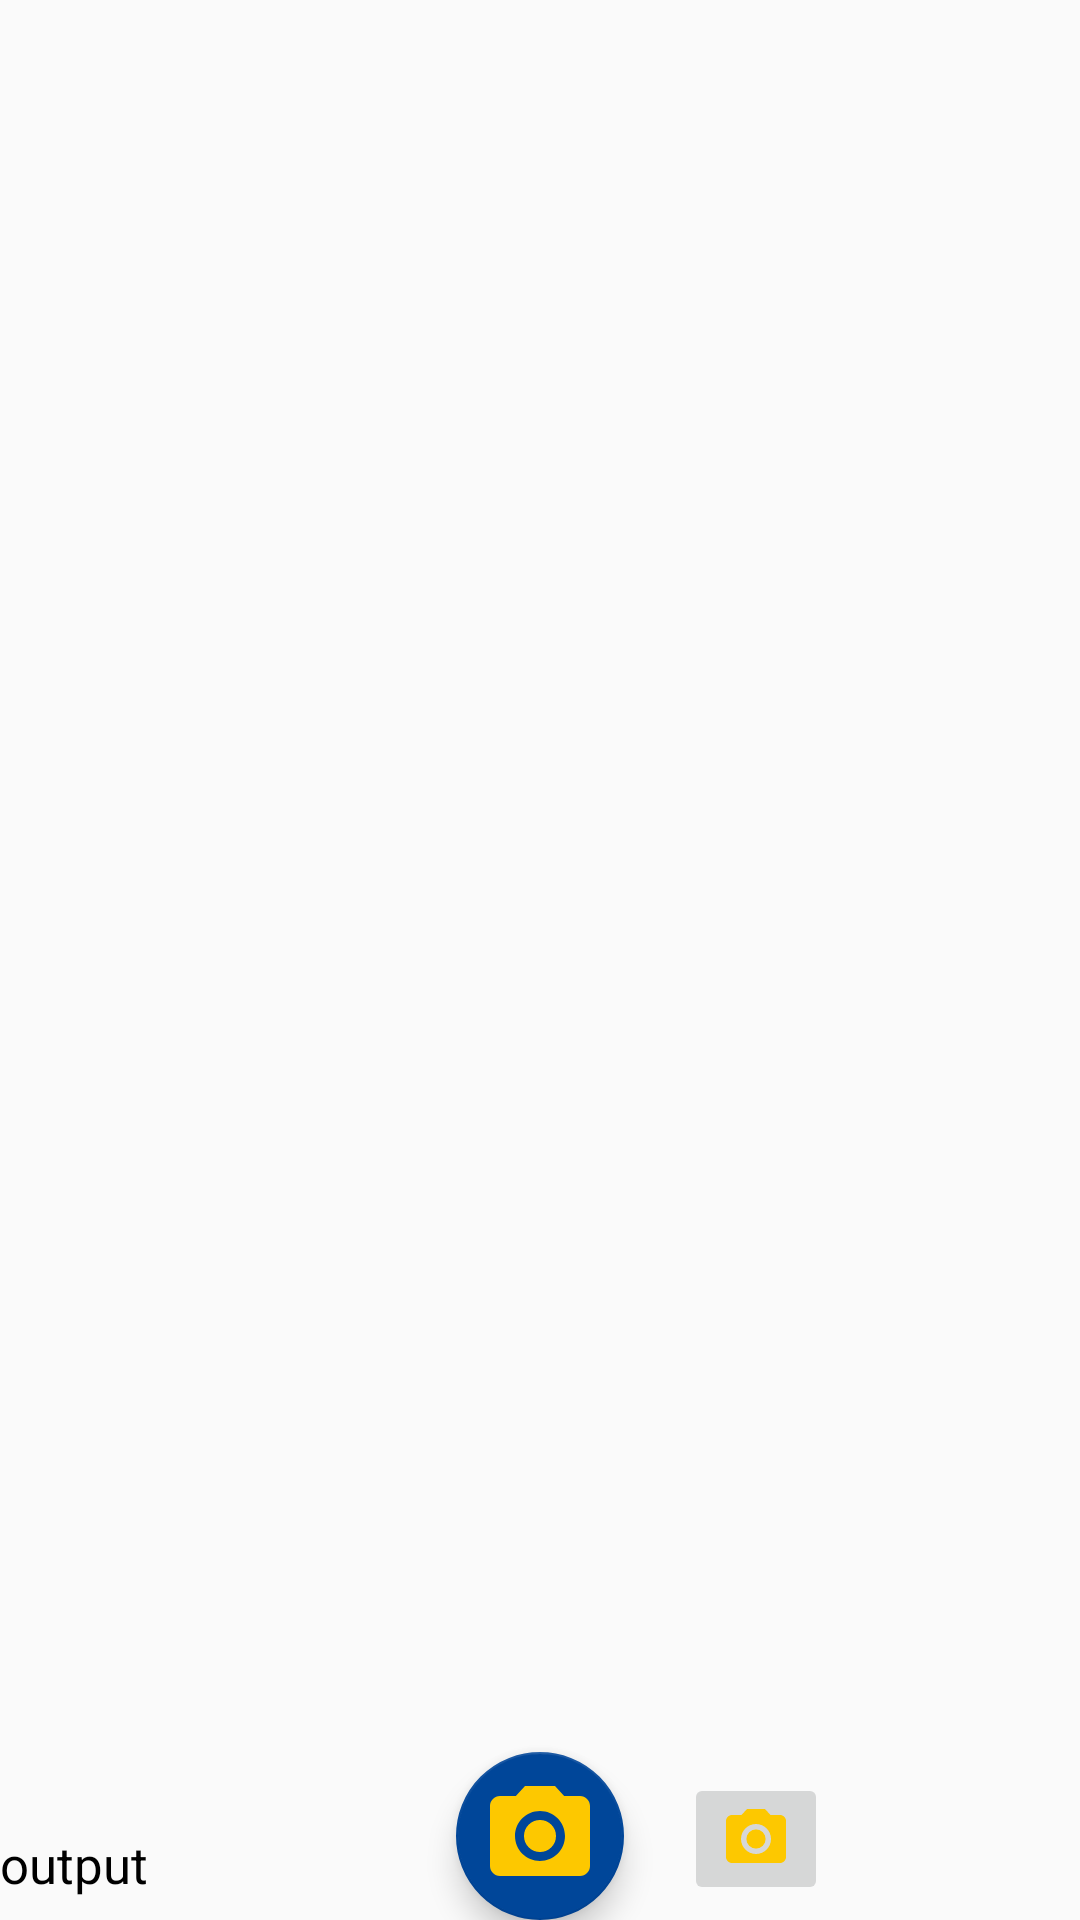

Where to tap for icons on this 1080 × 1920 app screen, as (x=x, y=y):
camera: (x=540, y=1836), (x=756, y=1839)
